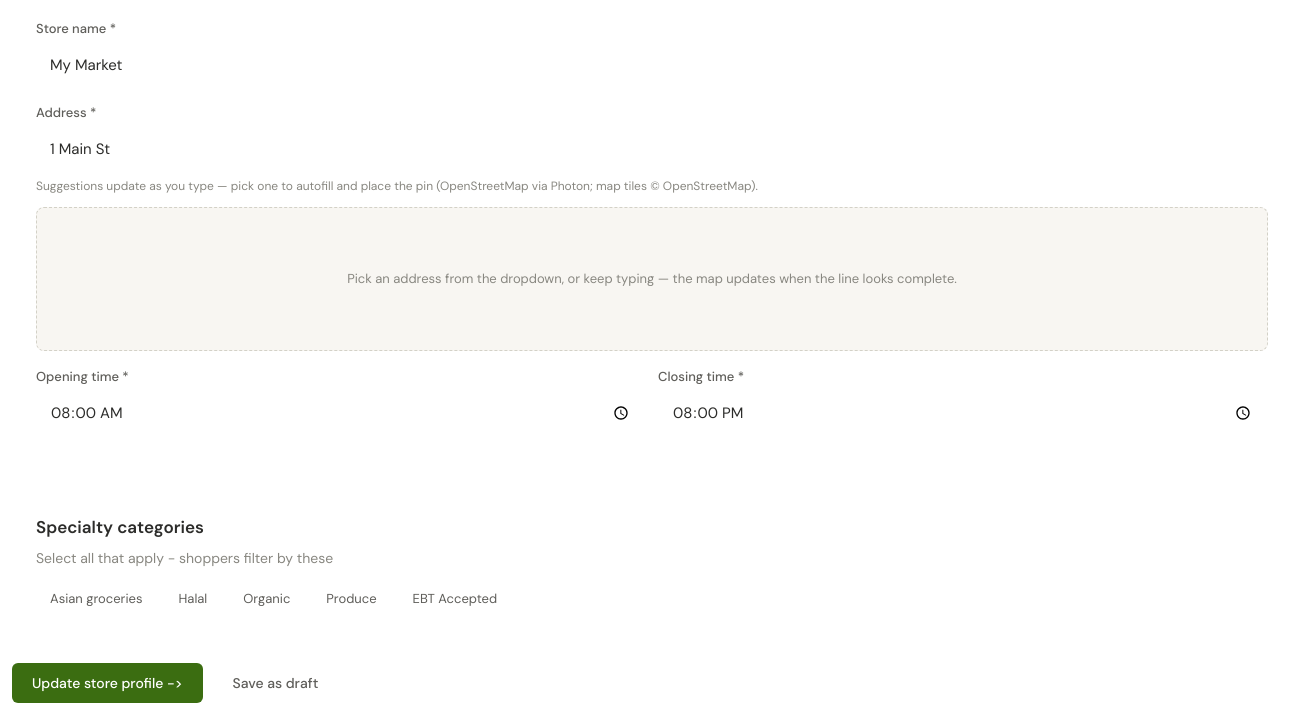
Test: StoreProfileForm component › shows a success message when saving as draft for an existing store
(page scrolled)
Click the button "Save as draft": (275, 682) [212,662,338,702]
(page scrolled)
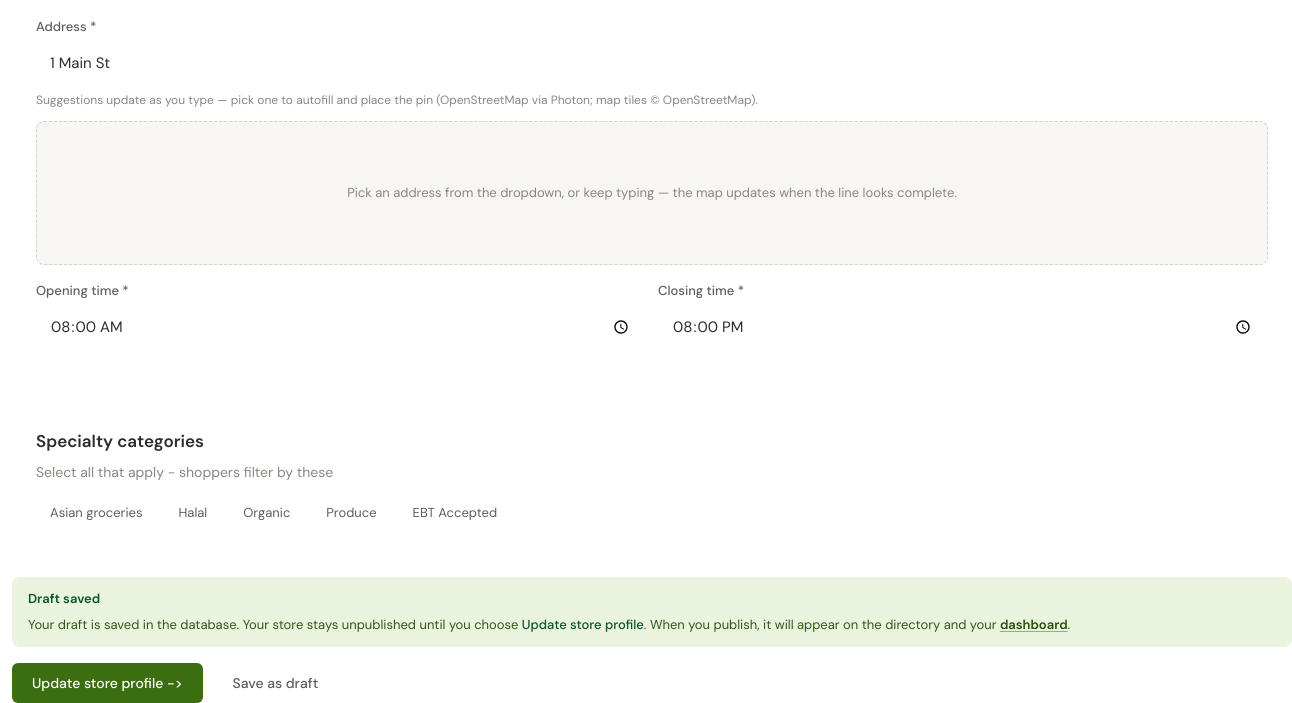
Expected: the text "Draft saved" is shown, [28,590,100,606]
